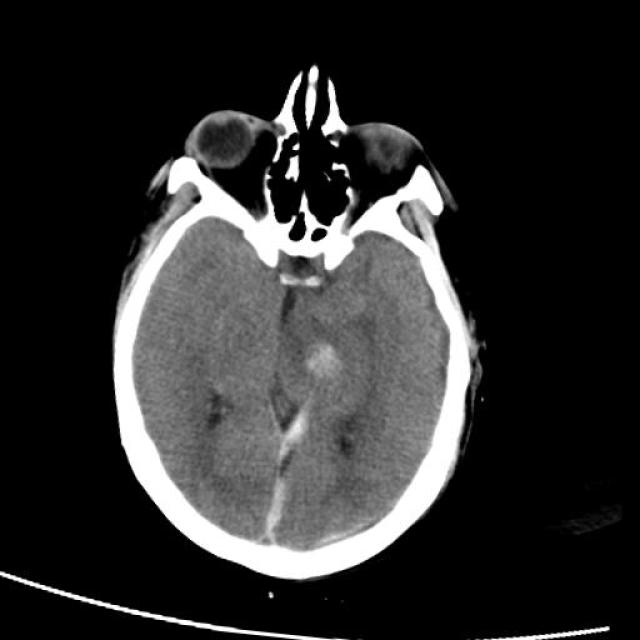Intraparenchymal: (286, 321, 370, 394)
Subdural: (232, 397, 322, 574)
